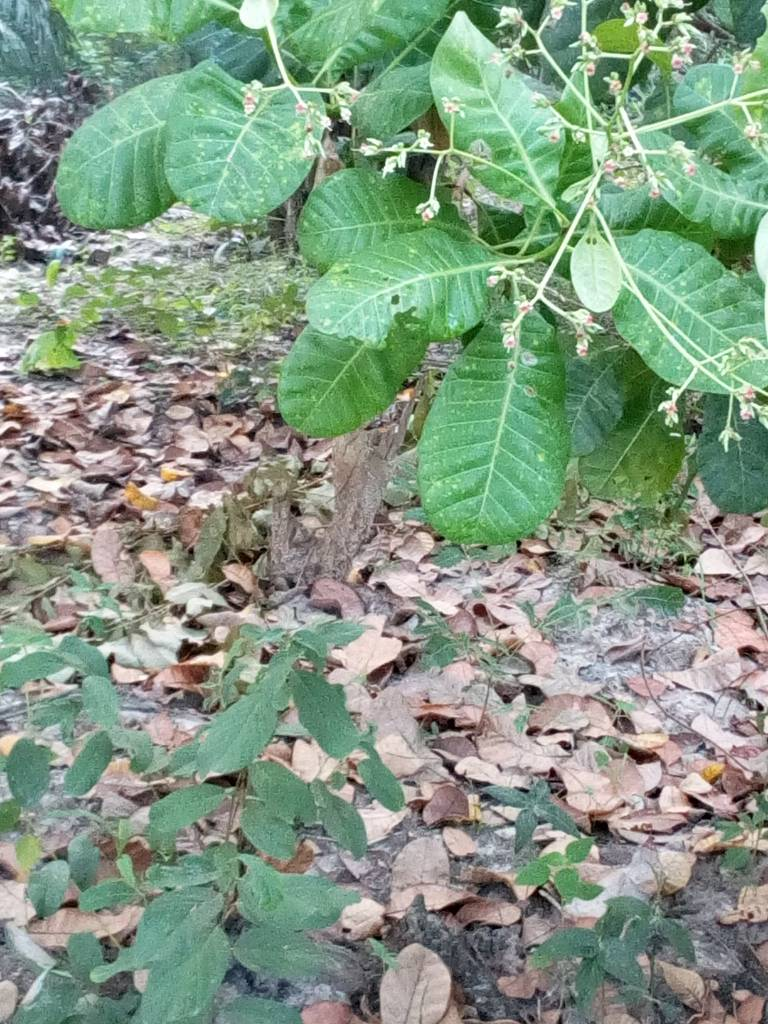Anoplocnemis curvipes: (315, 236, 490, 344)
